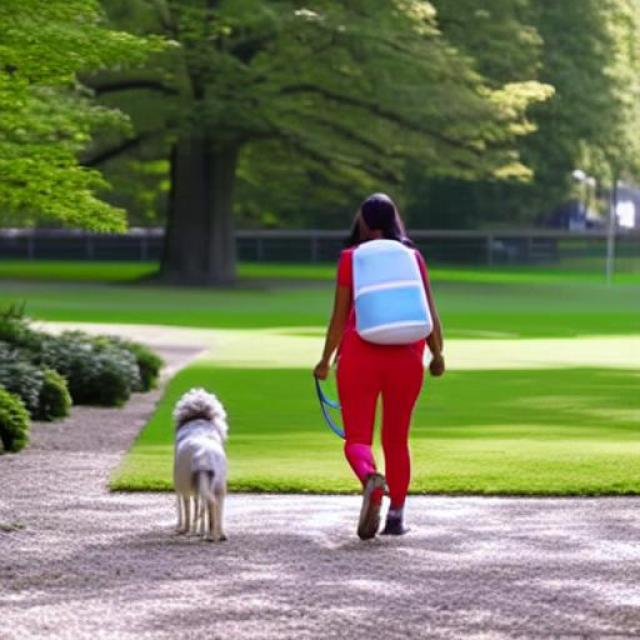Unleashed_Dog: (172, 357, 424, 542)
